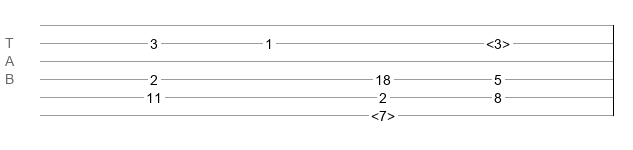1: (265, 36, 273, 46)
11: (146, 90, 162, 100)
18: (375, 72, 391, 82)
2: (150, 72, 158, 82), (379, 90, 387, 100)
3: (150, 36, 158, 46)
5: (494, 72, 502, 82)
8: (494, 90, 502, 100)
harmonic: (371, 108, 395, 118), (486, 36, 510, 46)
